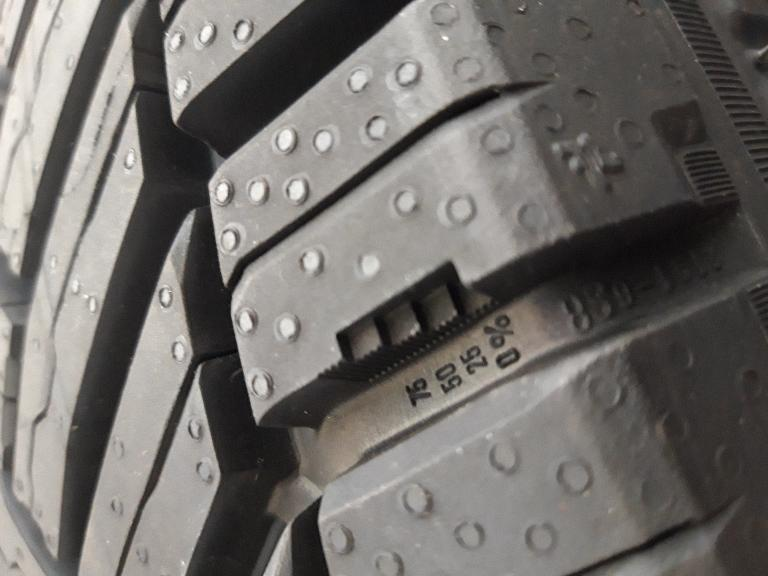temoin:100: (319, 258, 504, 388)
